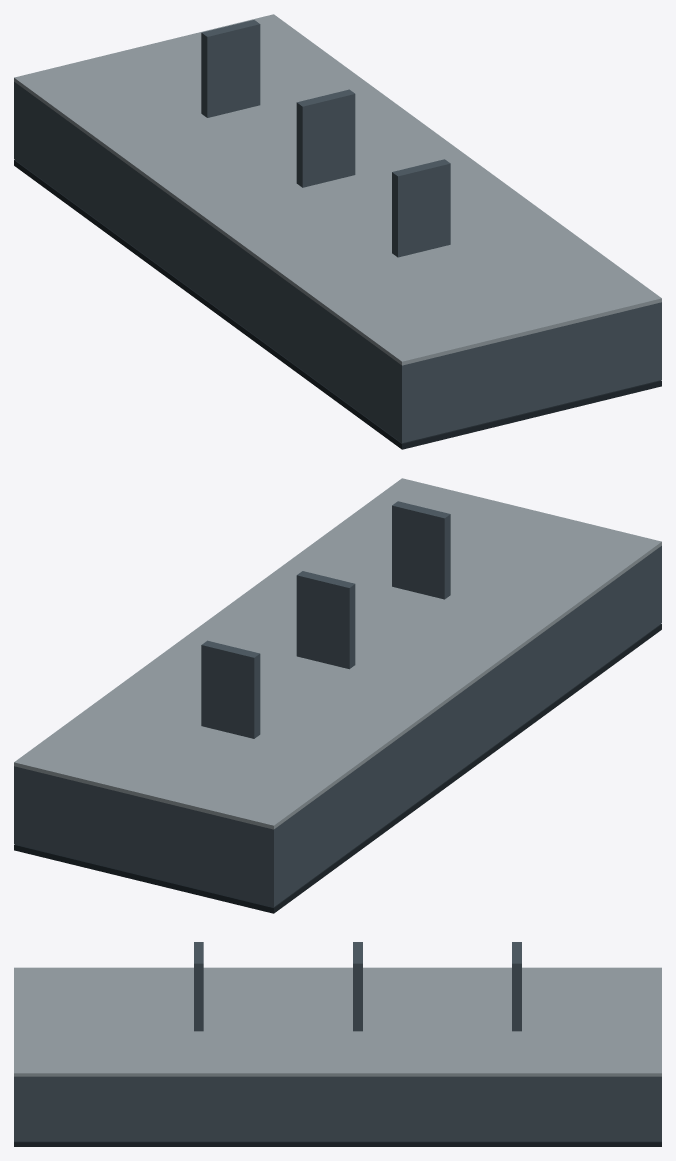
The model's file is reversal.glb.
3 renders of one model, top to bottom at view 1: azimuth 30°, elevation 25°; view 2: azimuth 150°, elevation 25°; view 3: azimuth 270°, elevation 25°, orthographic. The views are drawn at different scales.
Visible parts, largest first — view 1: Environment_Static; view 2: Environment_Static; view 3: Environment_Static.
Boxes of the visible parts, <box> form: Environment_Static: <box>14,14,661,449</box>; Environment_Static: <box>14,478,661,913</box>; Environment_Static: <box>14,942,661,1146</box>.
Size of the model in its own units: 12.6 by 7.84 by 32.6.
